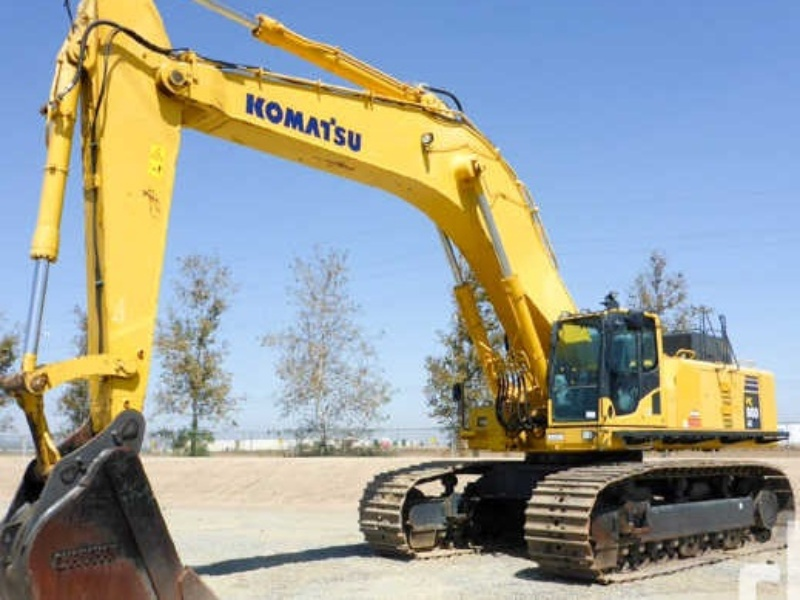wajueji: (321, 228, 800, 599)
